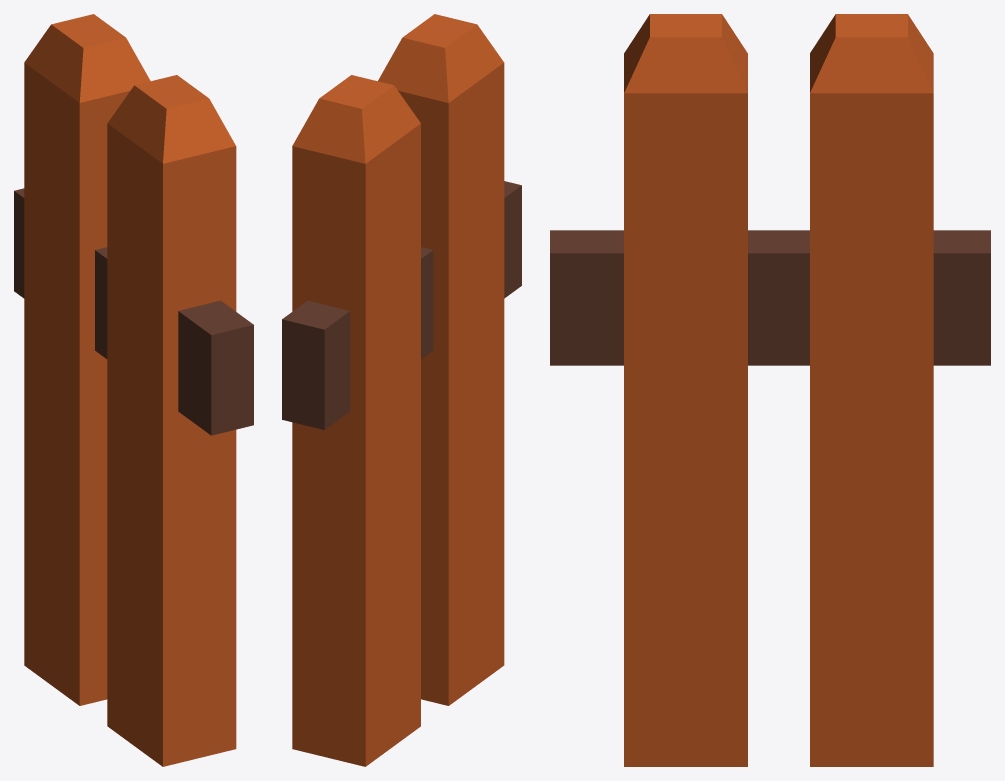
File: Забор.obj
3 renders of one model, left to right at view 1: azimuth 30°, elevation 25°; view 2: azimuth 150°, elevation 25°; view 3: azimuth 270°, elevation 25°, orthographic. The views are drawn at different scales.
Visible parts, largest first — view 1: Cube, Cube.001, Cube.002; view 2: Cube.001, Cube, Cube.002; view 3: Cube, Cube.001, Cube.002.
Part boxes in pixels (x1=…): Cube: x1=107, y1=75, x2=236, y2=766; Cube.001: x1=24, y1=14, x2=150, y2=705; Cube.002: x1=14, y1=188, x2=253, y2=435; Cube.001: x1=292, y1=75, x2=420, y2=766; Cube: x1=378, y1=14, x2=504, y2=705; Cube.002: x1=282, y1=181, x2=521, y2=429; Cube: x1=624, y1=14, x2=747, y2=766; Cube.001: x1=810, y1=14, x2=933, y2=766; Cube.002: x1=550, y1=230, x2=990, y2=365.
Size of the model in its own units: 0.1526 by 1.29 by 0.7116.
